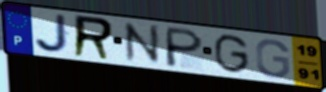G: (254, 38, 292, 80), (213, 33, 251, 75)
J: (33, 12, 72, 54)
N: (121, 20, 164, 65)
P: (163, 25, 206, 69)
R: (71, 14, 116, 62)
